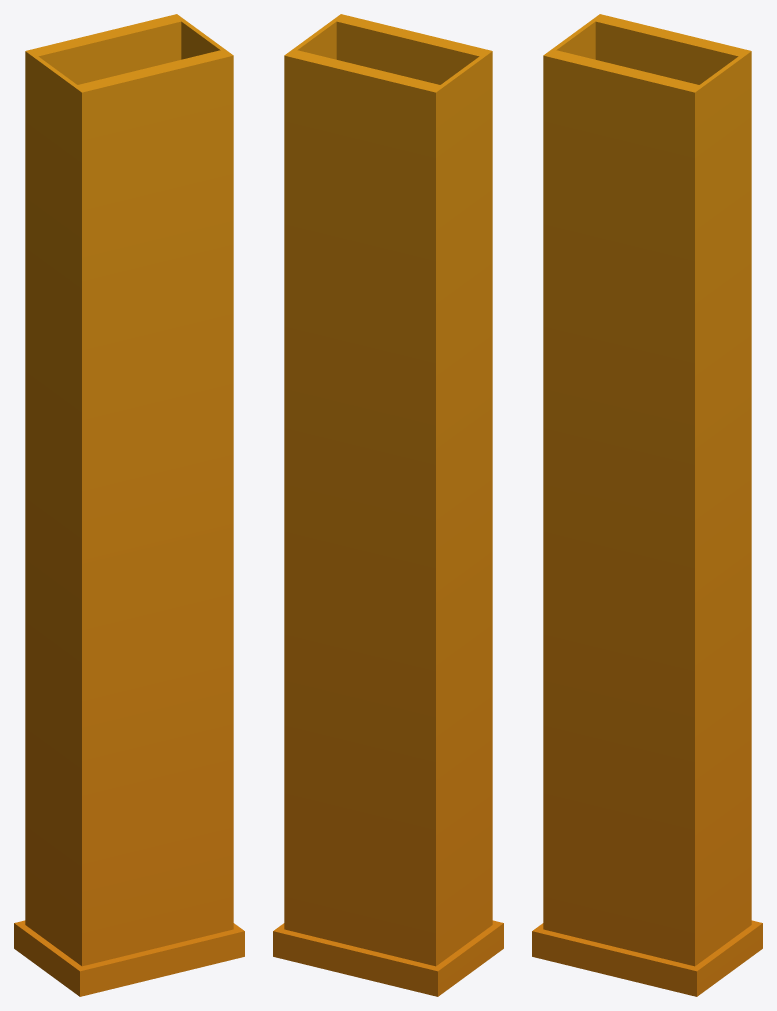
The model's file is Pistol6_03_4.fbx.
The picture shows the model from 3 angles, left to right: view 1: azimuth 30°, elevation 25°; view 2: azimuth 150°, elevation 25°; view 3: azimuth 330°, elevation 25°; orthographic projection.
Visible parts, largest first — view 1: Pistol6_03_4; view 2: Pistol6_03_4; view 3: Pistol6_03_4.
Boxes of the visible parts, box(x1,y1,x2,y2) form: Pistol6_03_4: box(14, 14, 244, 996); Pistol6_03_4: box(273, 14, 503, 996); Pistol6_03_4: box(532, 14, 762, 996).
Bounding box in the file's own units: 0.0391 × 0.2038 × 0.0271.
